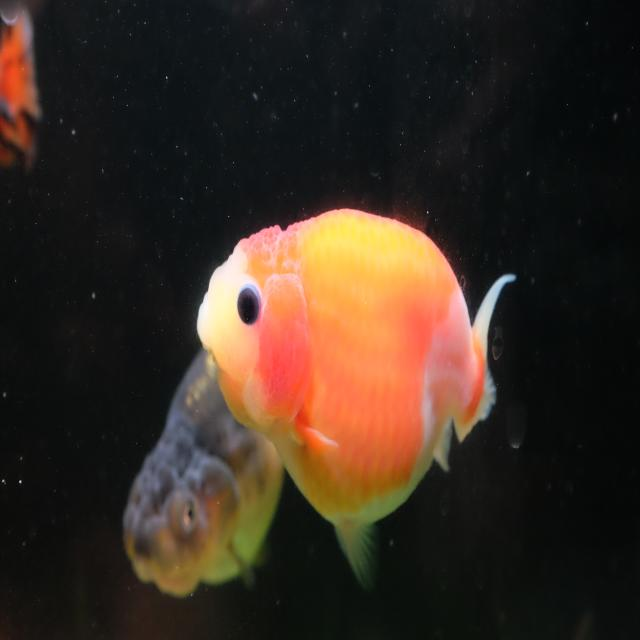Goldfish: (196, 203, 517, 601), (117, 342, 287, 606)
